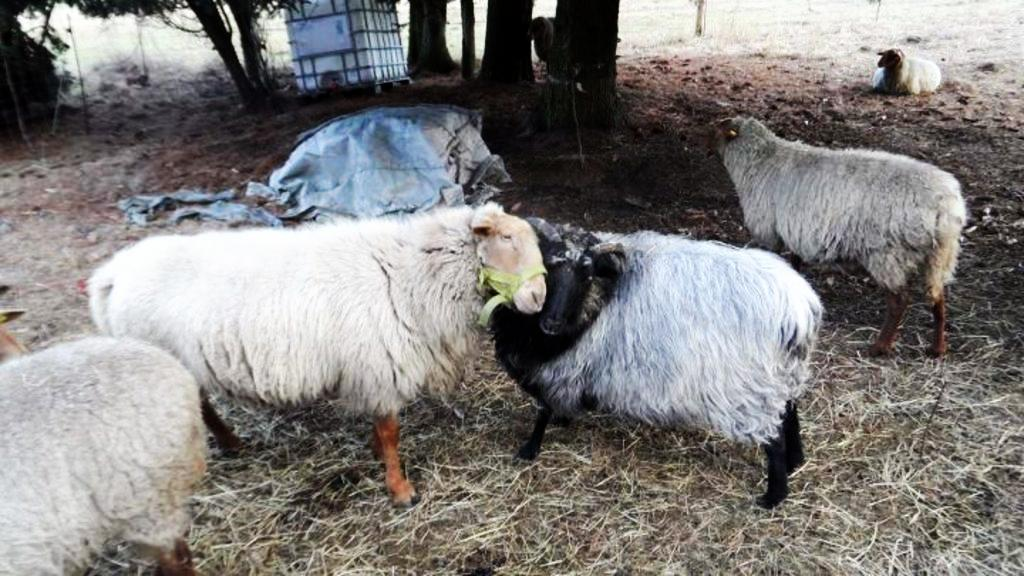Sheep: (77, 199, 546, 505), (475, 215, 819, 512), (702, 115, 976, 360), (0, 338, 205, 574), (869, 46, 946, 96)
